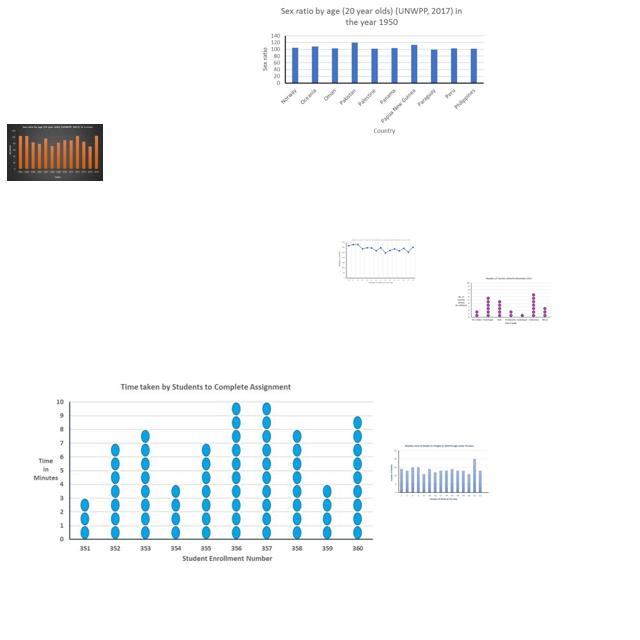Graph: (27, 378, 374, 567), (256, 4, 488, 139), (388, 443, 491, 503), (7, 124, 103, 181), (454, 276, 551, 326), (337, 237, 417, 286)
